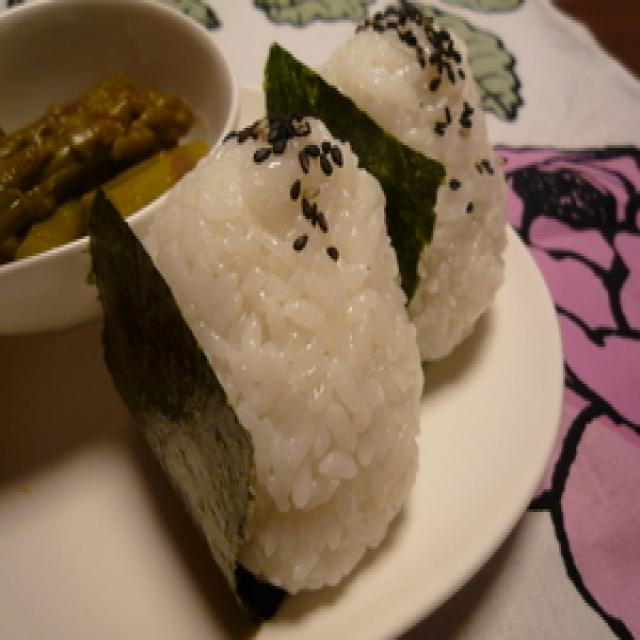米饭主食: (124, 85, 416, 578), (275, 0, 512, 353)
